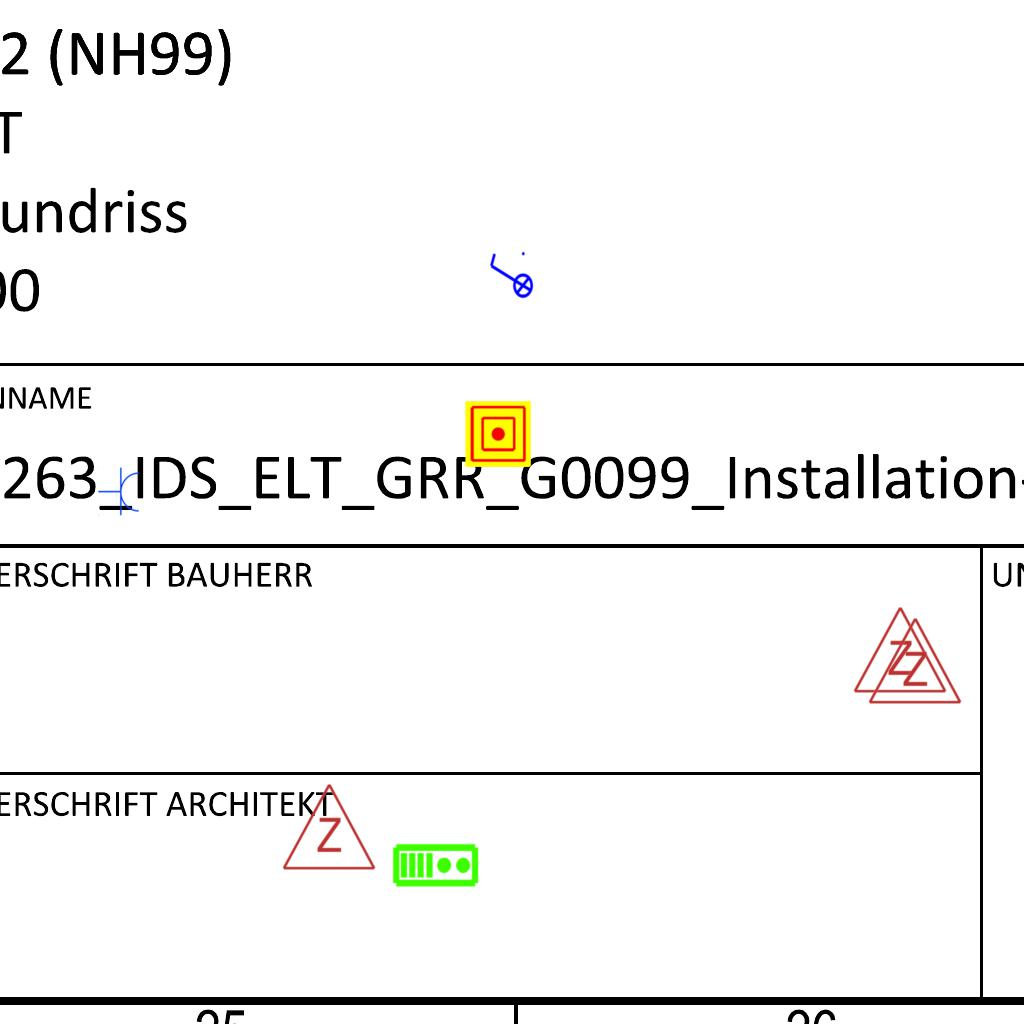Ausschalter_beleuchtet: (486, 249, 534, 305)
Gegensprechanlage_mit_Video: (392, 841, 480, 888)
NAM-Nichtautomatischer_Melder: (465, 401, 531, 467)
Schukosteckdose_einfach: (98, 467, 141, 517)
Zimmersignalleuchte: (279, 777, 377, 877), (850, 600, 948, 700), (865, 611, 963, 711)
